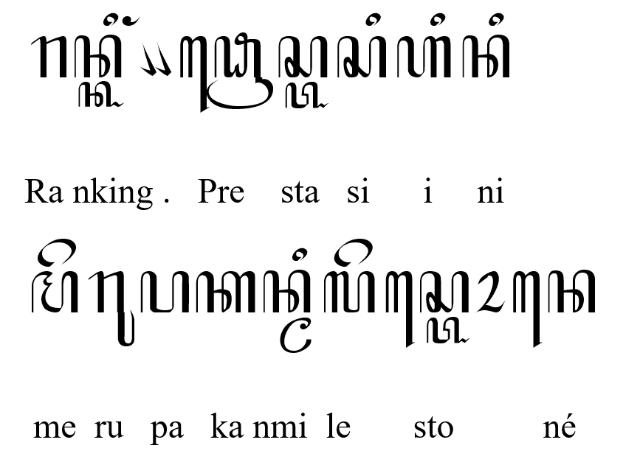Pr: (205, 32, 273, 110)
_k: (77, 80, 126, 108)
_m: (278, 318, 312, 354)
_t: (285, 80, 329, 110), (426, 316, 470, 346)
e: (334, 238, 374, 268), (38, 238, 76, 268)
e1: (178, 35, 210, 113), (512, 271, 542, 349), (386, 271, 414, 349)
h: (396, 36, 452, 78)
i: (364, 12, 382, 26), (430, 13, 446, 27), (488, 12, 504, 26), (292, 248, 308, 262), (104, 12, 118, 26)
k: (196, 270, 256, 314)
kom: (140, 43, 158, 77), (154, 42, 172, 76)
l: (322, 270, 376, 314)
m: (30, 271, 80, 315)
n: (462, 34, 511, 80), (262, 270, 312, 314), (74, 34, 122, 78), (548, 270, 596, 314)
ng: (122, 15, 140, 25)
o: (476, 271, 506, 313)
p: (140, 270, 190, 314)
r: (31, 36, 68, 78)
ru: (87, 270, 135, 348)
s: (277, 35, 329, 79), (419, 270, 469, 314), (337, 36, 388, 78)
